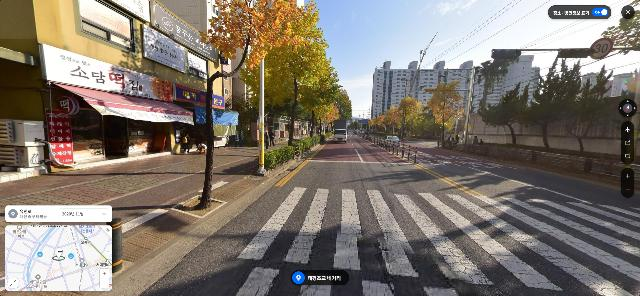other: (198, 0, 303, 210), (241, 0, 328, 147), (527, 59, 585, 149), (477, 75, 531, 145), (296, 60, 341, 140), (575, 67, 614, 152), (427, 71, 464, 143), (398, 96, 422, 137), (333, 88, 352, 120), (383, 103, 400, 135)
